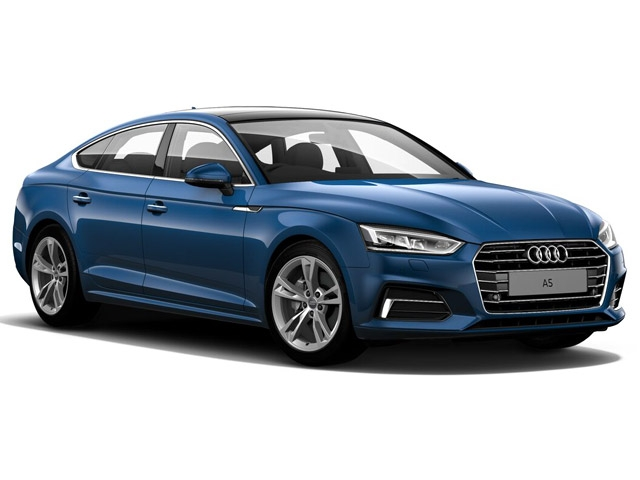audi: (10, 86, 630, 368)
